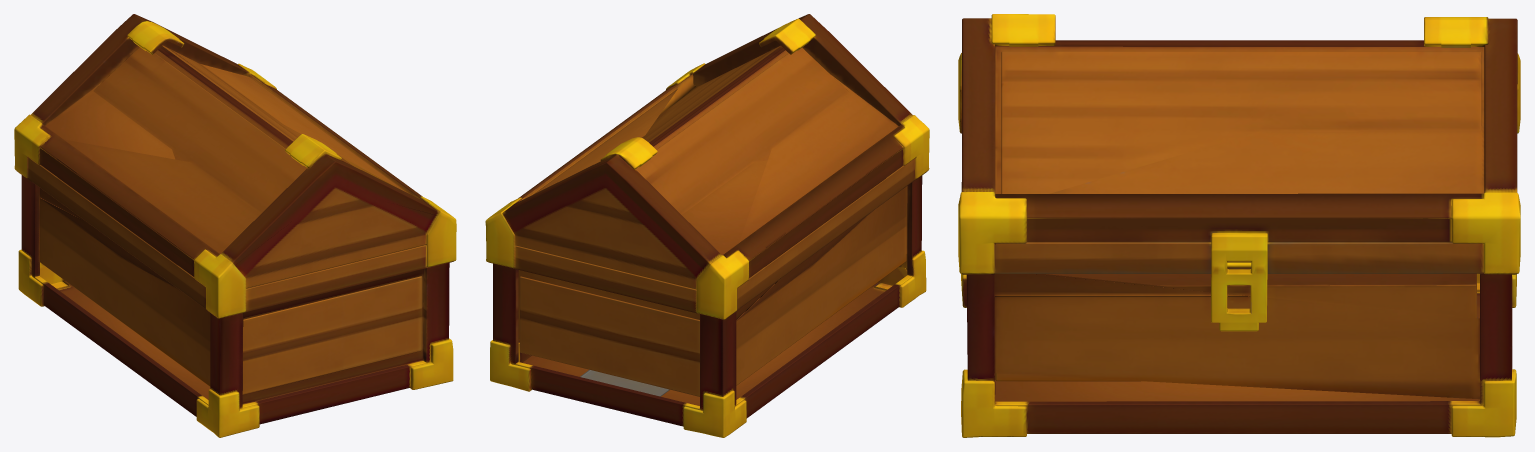
Rendered from bau_novo.glb.
The picture shows the model from 3 angles, left to right: view 1: azimuth 30°, elevation 25°; view 2: azimuth 150°, elevation 25°; view 3: azimuth 270°, elevation 25°; orthographic projection. The views are drawn at different scales.
Visible parts, largest first — view 1: tampa, corpo; view 2: tampa, corpo; view 3: tampa, corpo.
Part boxes in pixels (<box>): tampa: <box>14,14,456,318</box>; corpo: <box>18,175,453,437</box>; tampa: <box>485,14,929,319</box>; corpo: <box>490,176,926,437</box>; tampa: <box>958,14,1520,282</box>; corpo: <box>961,273,1516,437</box>.
Size of the model in its own units: 0.6948 by 0.6792 by 0.9995.
Materials: 1 (1 with a texture image).
